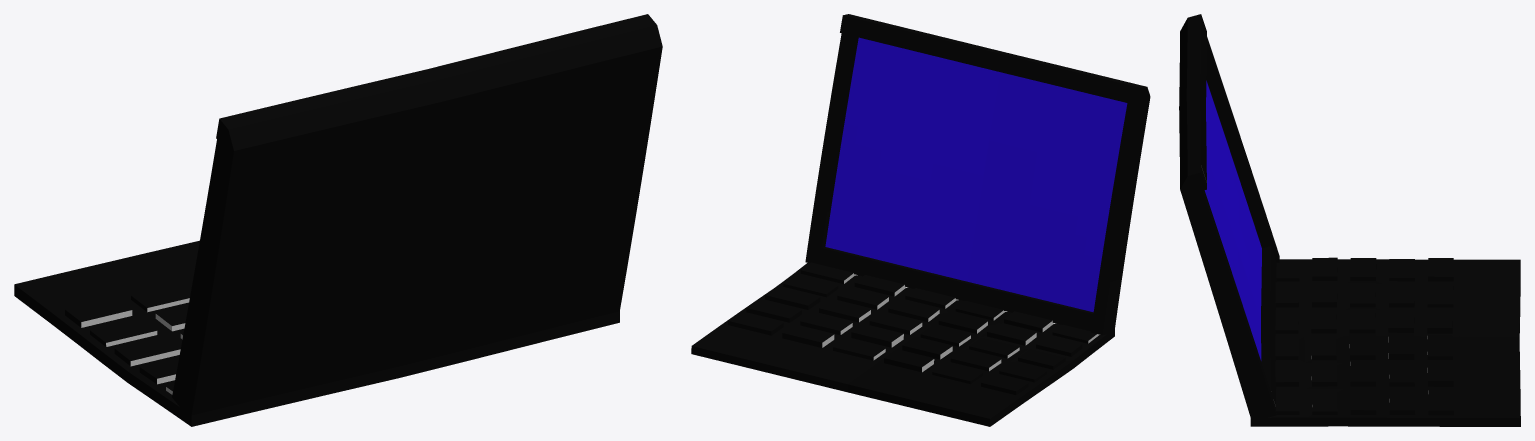
The model's file is computer.fbx.
3 renders of one model, left to right at view 1: azimuth 30°, elevation 25°; view 2: azimuth 150°, elevation 25°; view 3: azimuth 270°, elevation 25°, orthographic. The views are drawn at different scales.
Parts seen in each view (by area): view 1: WindowFrame; view 2: WindowFrame; view 3: WindowFrame.
Part boxes in pixels (x1,y1,x2,y2): WindowFrame: (14, 14, 662, 426); WindowFrame: (691, 14, 1150, 426); WindowFrame: (1179, 14, 1520, 426).
Bounding box in the file's own units: 39.74 × 29.27 × 35.74.
